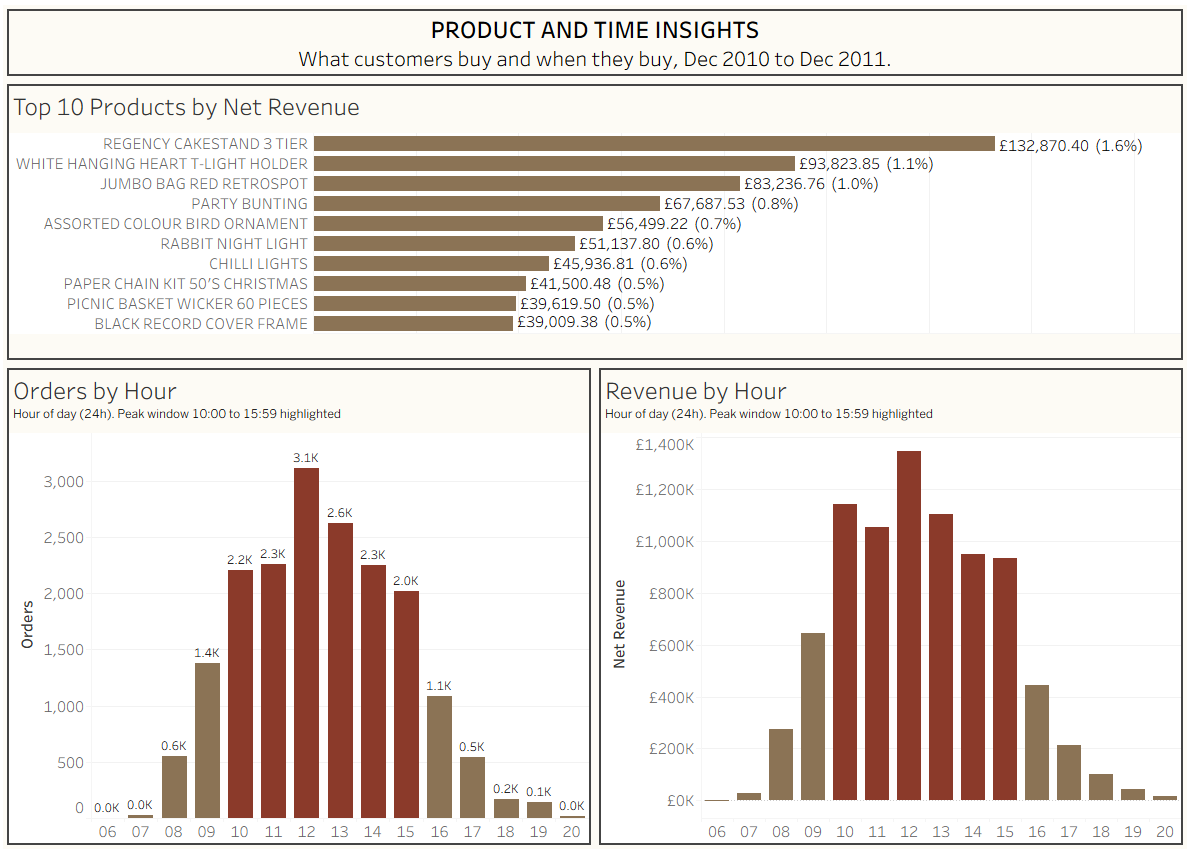

This screenshot's page, from the dashboard's own definition file:
{"tool":"tableau","page":{"name":"Product and Time Insight","canvas":[1200,800],"ordinal":2},"visuals":[{"type":"worksheet","title":"Top Products by Revenue","mark":"Automatic","rows":["Description"],"cols":["Revenue"],"box":[8,8,1184,338]},{"type":"worksheet","title":"Orders by Hour","mark":"Bar","rows":["InvoiceNo"],"cols":["Invoice_Time"],"box":[8,346,569.5,446]},{"type":"worksheet","title":"Revenue by Hour","mark":"Automatic","rows":["Revenue"],"cols":["Invoice_Time"],"box":[577.5,346,614.5,446]}]}

Visuals, with their boxes on the page's 1200x800 design canvas (x1, y1, x2, y2). These are canvas units, not pixel positions in the 1192x851 screenshot, which may show the page scaled, cropped or inside an application window:
"Top Products by Revenue" worksheet: (left=8, top=8, right=1192, bottom=346)
"Orders by Hour" worksheet (Bar marks): (left=8, top=346, right=578, bottom=792)
"Revenue by Hour" worksheet: (left=578, top=346, right=1192, bottom=792)
